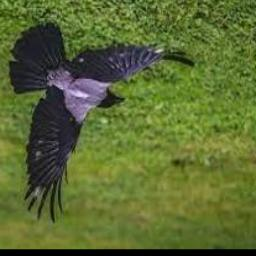Crow: (9, 23, 197, 222)
